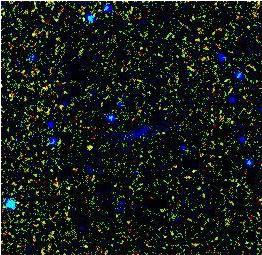star: (75, 135, 105, 165)
